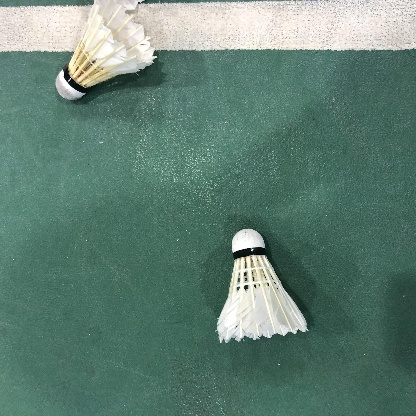ball_single: (217, 229, 309, 343), (55, 0, 158, 100)
